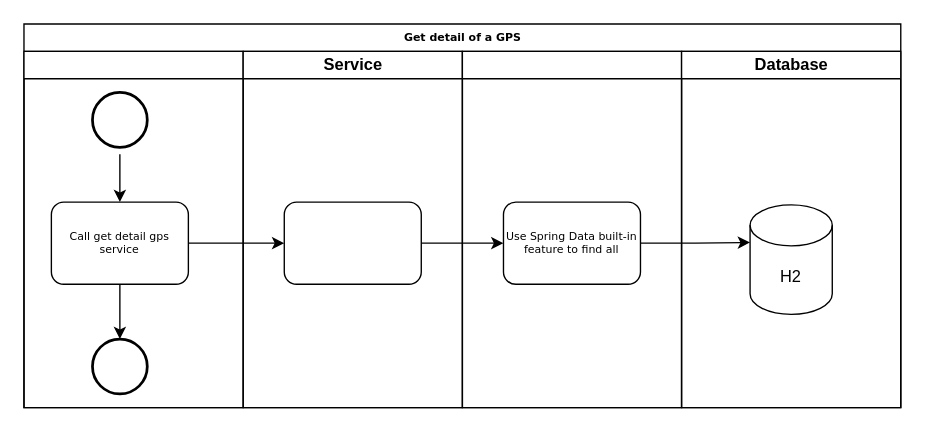
The diagram is 925 pixels wide and 432 high, and some of its shapes have lost their labels. The shapes that lost their labels are listed below. From the top down, each one's box as (x1, y1, x2, y2) in pixels, then its label:
(23, 50, 243, 408): Controller
(283, 201, 421, 284): Call Repository to get a gps
(461, 50, 682, 408): Repository
